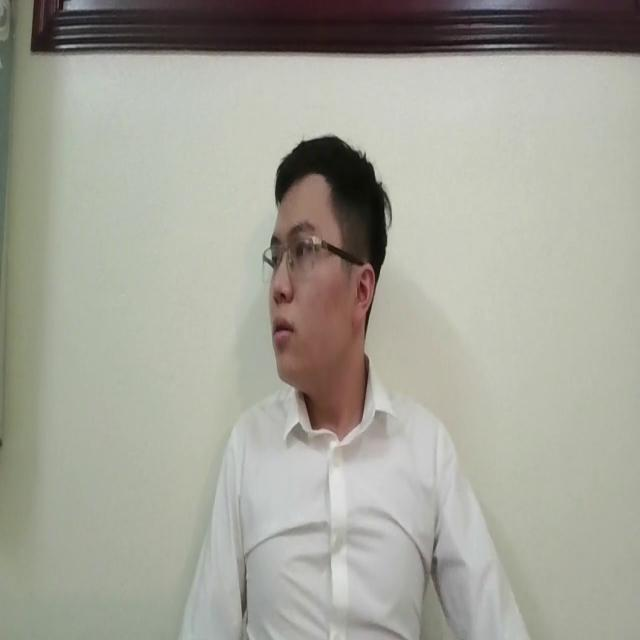student: (176, 133, 538, 640)
